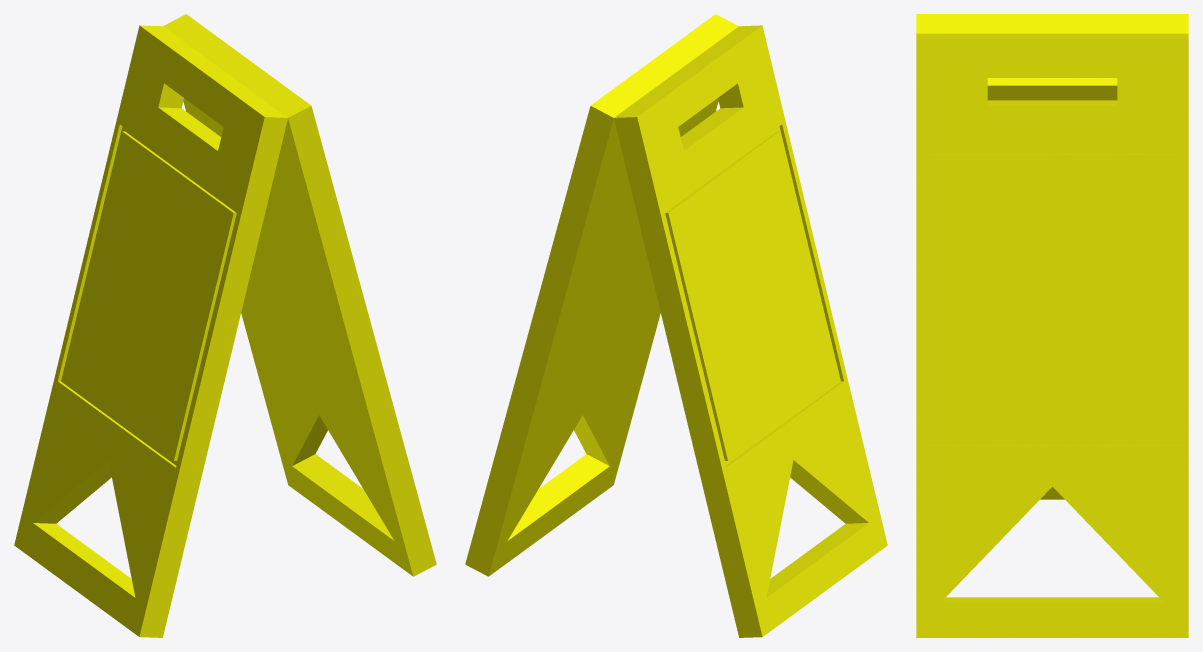
File: Under construction.fbx
The picture shows the model from 3 angles, left to right: view 1: azimuth 30°, elevation 25°; view 2: azimuth 150°, elevation 25°; view 3: azimuth 270°, elevation 25°; orthographic projection. The views are drawn at different scales.
Visible parts, largest first — view 1: Cube; view 2: Cube; view 3: Cube.
Boxes of the visible parts, x1,y1,x2,y2 form: Cube: (14, 14, 436, 637); Cube: (465, 14, 887, 637); Cube: (916, 14, 1188, 637).
Bounding box in the file's own units: 61.42 × 97.89 × 44.8.
